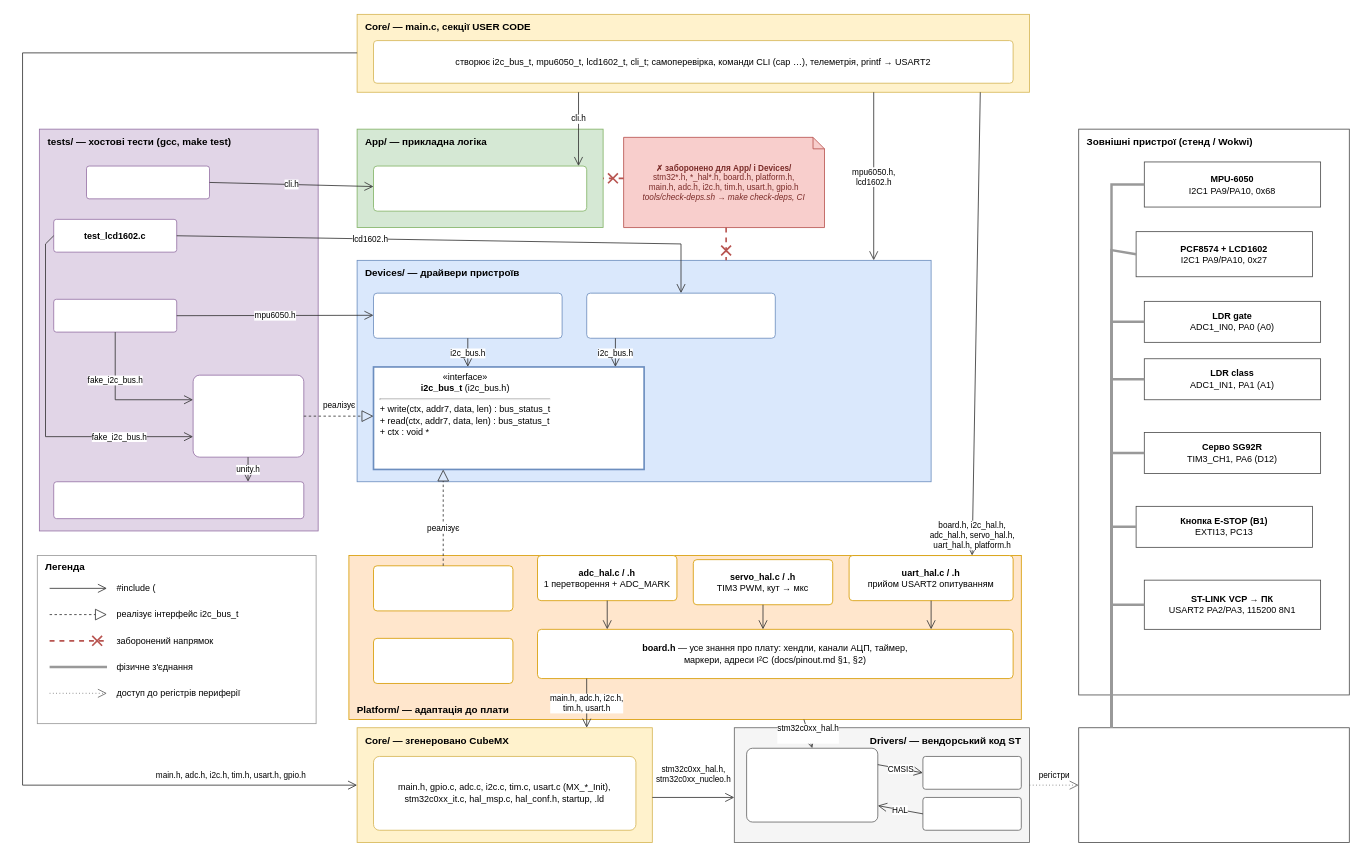
The diagram is 1364 pixels wide and 857 high, and some of its shapes have lost their labels. Here are the shapes that lost their labels. From the top down, the centre of each, then its label:
At point (148, 182): "test_cli.c".
At point (480, 188): "cli.c / cli.h розбір команд UART".
At point (115, 315): "test_mpu6050.c".
At point (467, 315): "mpu6050.c / .h MPU-6050: WHO_AM_I, SLEEP, accel".
At point (680, 315): "lcd1602.c / .h HD44780 через PCF8574, 1-байтові записи".
At point (248, 415): "fakes/fake_i2c_bus mock + регістри MPU, ін'єкція NACK/TIMEOUT".
At point (178, 500): "unity/ — Unity v2.7.0 unity.h у всіх test_* і fake".
At point (443, 588): "i2c_hal.c / .h i2c_bus_t над HAL, recover".
At point (443, 660): "platform.c / .h platform_delay_ms".
At point (812, 784): "STM32C0xx_HAL_Driver v1.4.1 (STM32Cube FW_C0 V1.4.1)".
At point (971, 772): "CMSIS Core 5.6 Device C0 1.4.1".
At point (1213, 785): "МК STM32C031C6 (NUCLEO-C031C6) I2C1 · ADC1 · TIM3 · USART2 · GPIO/EXTI".
At point (971, 813): "BSP Nucleo 1.1.1".
